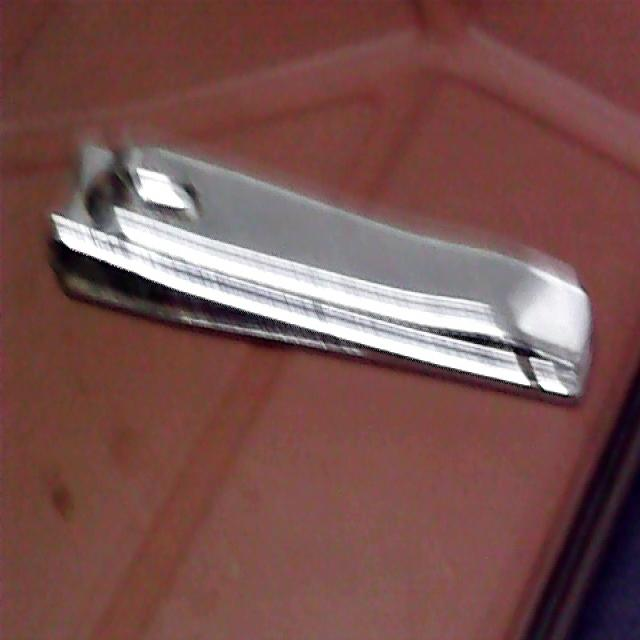Nail_clipper: (50, 144, 592, 399)
